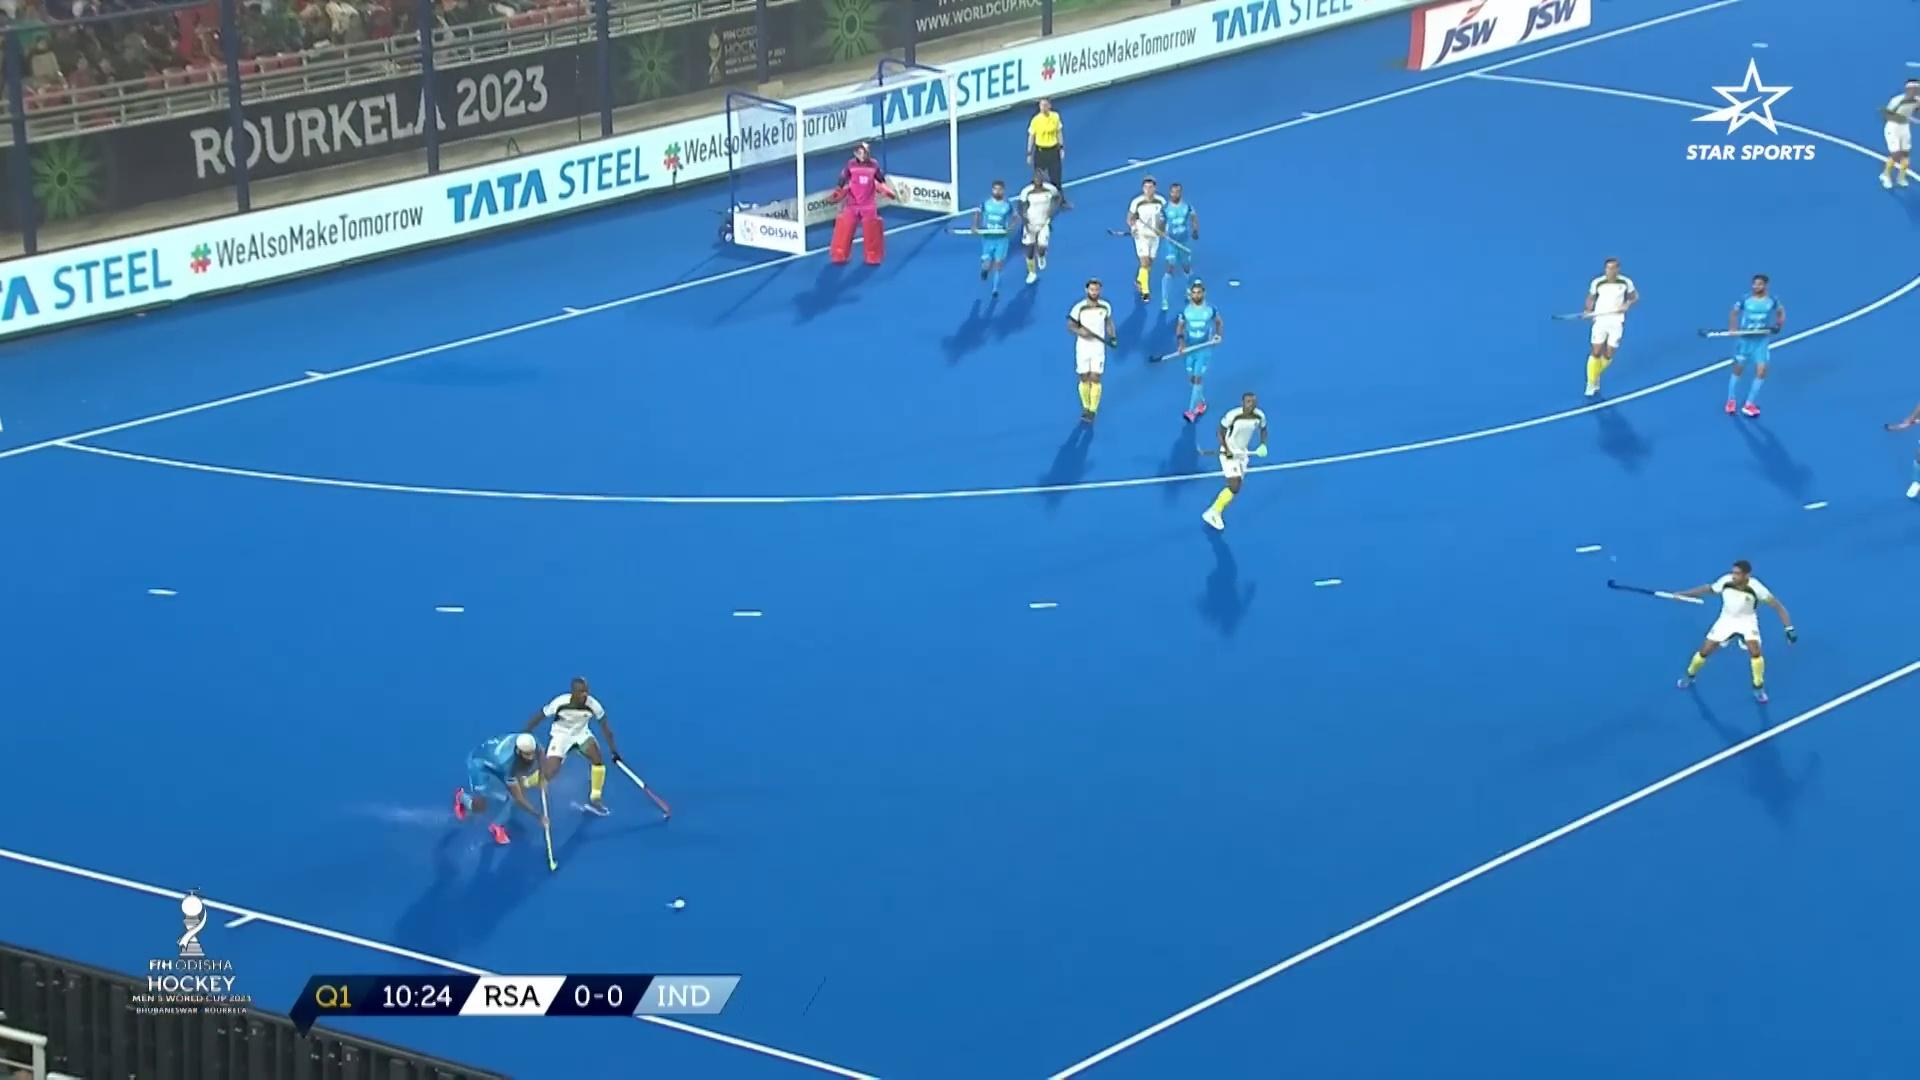ball: (661, 891, 688, 914)
